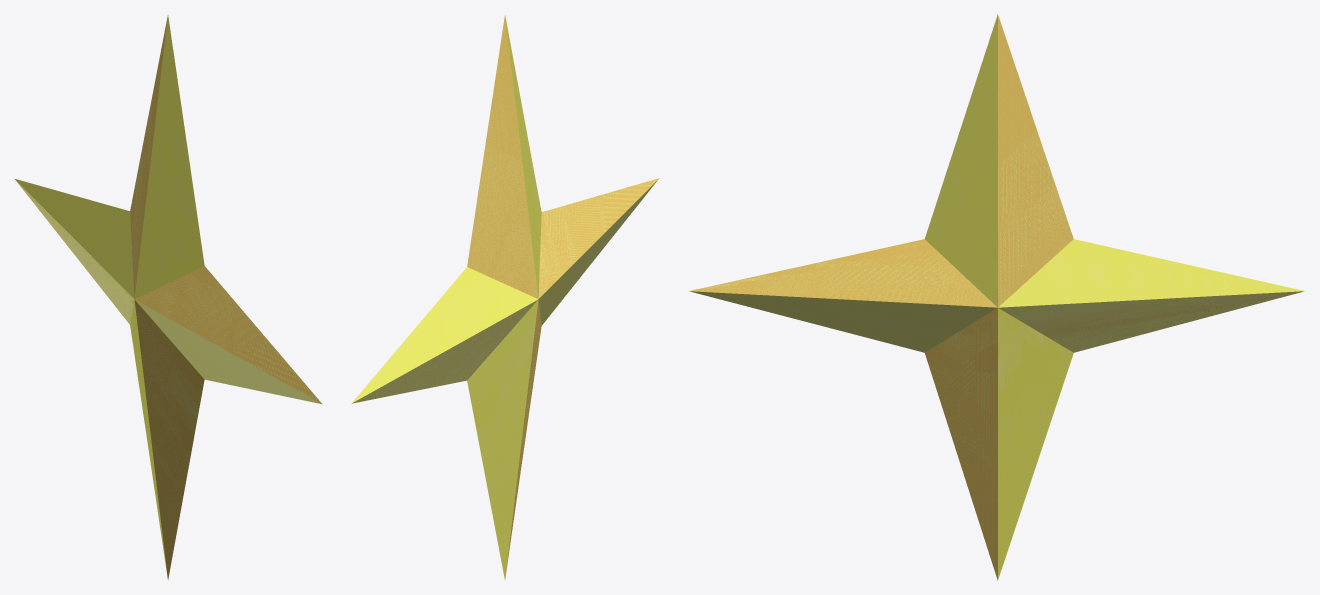
Rendered from star.dae.
The picture shows the model from 3 angles, left to right: view 1: azimuth 30°, elevation 25°; view 2: azimuth 150°, elevation 25°; view 3: azimuth 270°, elevation 25°; orthographic projection.
Parts seen in each view (by area): view 1: Group_2 (×8); view 2: Group_2 (×8); view 3: Group_2 (×8).
Boxes of the visible parts, bbox=[...] form: Group_2 (×8): bbox=[14, 15, 321, 579]; Group_2 (×8): bbox=[351, 15, 659, 579]; Group_2 (×8): bbox=[689, 14, 1304, 580].
Bounding box in the file's own units: 8.62 × 68.41 × 69.36.
